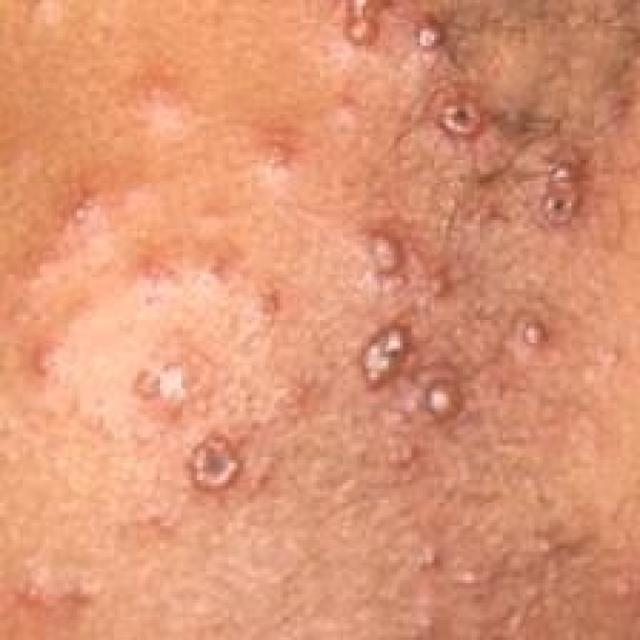others: (45, 4, 639, 618)
